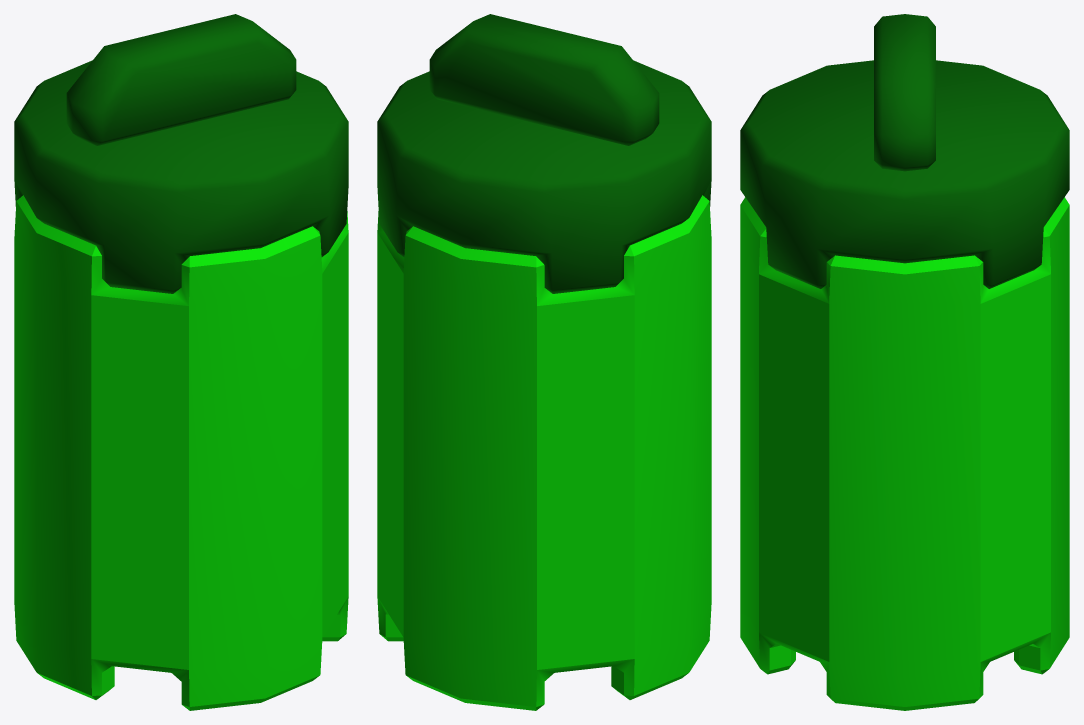
The picture shows the model from 3 angles, left to right: view 1: azimuth 30°, elevation 25°; view 2: azimuth 150°, elevation 25°; view 3: azimuth 270°, elevation 25°; orthographic projection.
Parts seen in each view (by area): view 1: Circle.139, Circle.145; view 2: Circle.139, Circle.145; view 3: Circle.139, Circle.145.
Boxes of the visible parts, left/top/right/bottom form: Circle.139: left=14, top=195, right=348, bottom=710; Circle.145: left=14, top=14, right=348, bottom=293; Circle.139: left=377, top=195, right=711, bottom=710; Circle.145: left=377, top=14, right=711, bottom=293; Circle.139: left=740, top=197, right=1069, bottom=710; Circle.145: left=740, top=14, right=1069, bottom=288.
Size of the model in its own units: 0.4 by 0.8 by 0.4.
